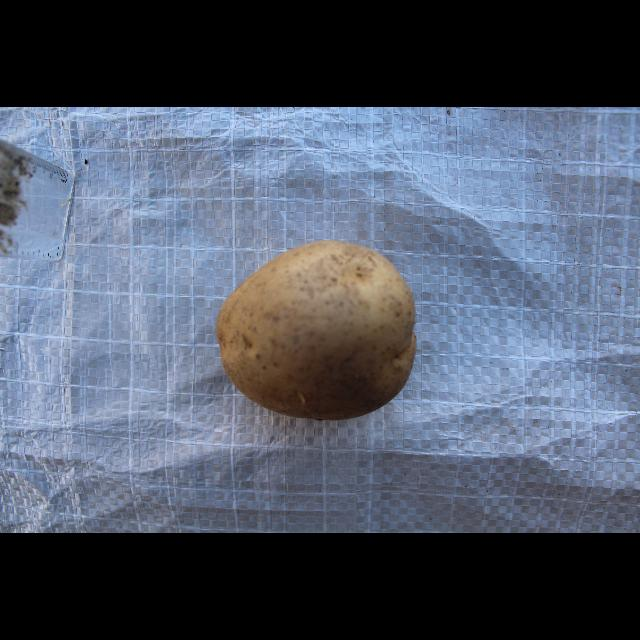Damaged potato: (213, 237, 419, 426)
